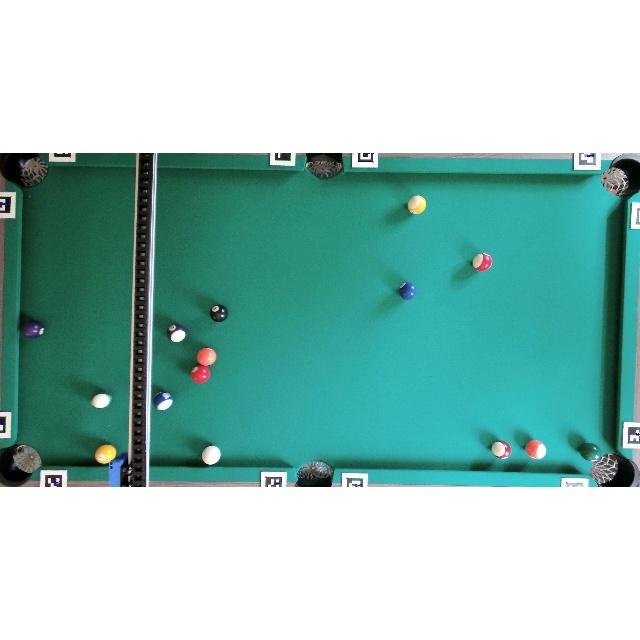cue ball: (201, 446, 221, 466)
other: (578, 442, 601, 462), (20, 320, 44, 339), (95, 444, 116, 464), (525, 440, 546, 460), (90, 392, 113, 410), (167, 323, 187, 342), (197, 347, 217, 366), (153, 392, 173, 411), (491, 440, 511, 459), (191, 365, 211, 384), (408, 195, 427, 214), (398, 281, 417, 300), (472, 253, 492, 271), (210, 304, 228, 322)
